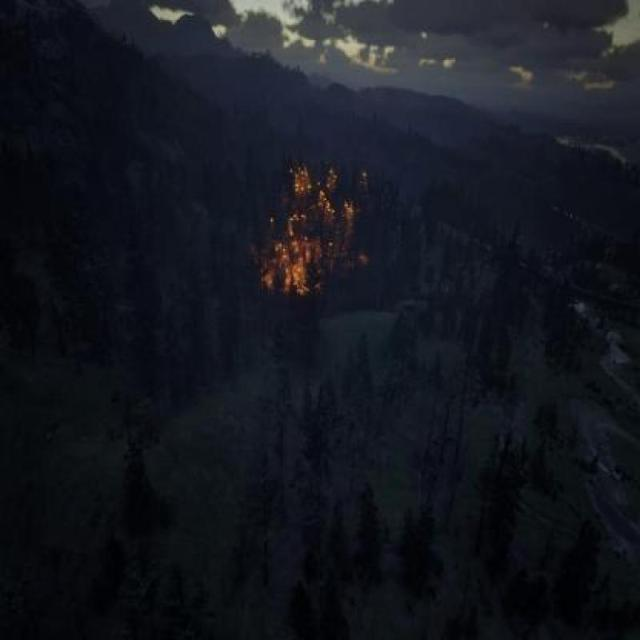Fire: (256, 154, 378, 306)
